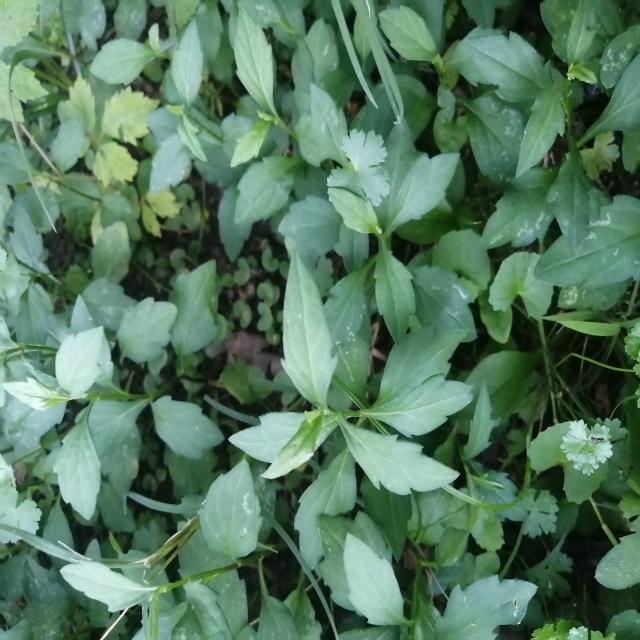Indian aster: (239, 276, 458, 532)
